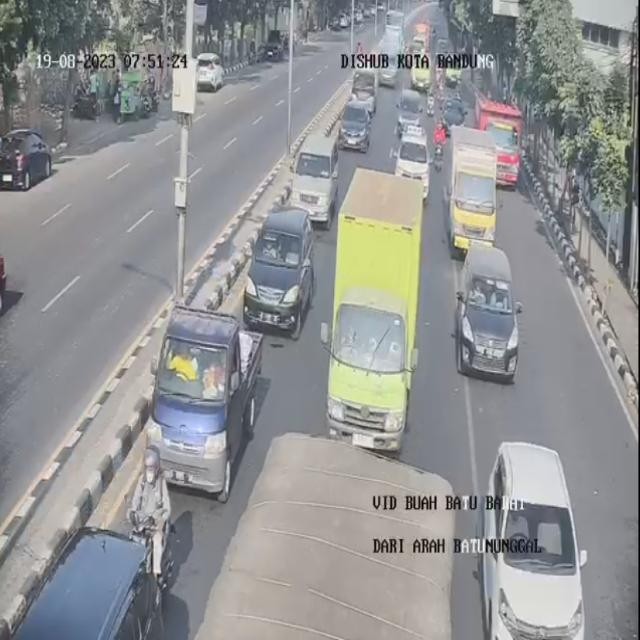cars: (197, 433, 456, 638), (460, 443, 588, 640), (146, 304, 263, 502), (243, 207, 315, 339), (458, 242, 524, 383), (291, 132, 338, 228), (395, 124, 431, 201), (339, 100, 372, 151), (395, 88, 423, 135), (350, 68, 378, 113), (464, 416, 466, 416)
motorcycle: (13, 528, 162, 639), (125, 444, 177, 596)
truck: (321, 167, 424, 450), (445, 125, 497, 258), (476, 91, 522, 183)
